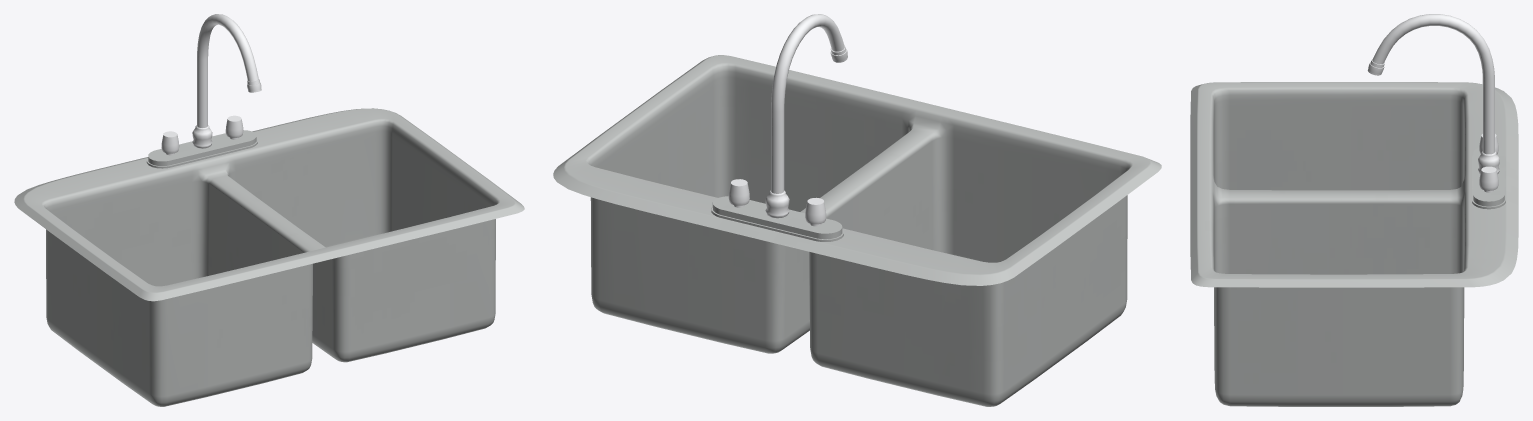
Rendered from sink2.glb.
The picture shows the model from 3 angles, left to right: view 1: azimuth 30°, elevation 25°; view 2: azimuth 150°, elevation 25°; view 3: azimuth 270°, elevation 25°; orthographic projection. The views are drawn at different scales.
Visible parts, largest first — view 1: KitchenSink, KitchenSinkFaucet; view 2: KitchenSink, KitchenSinkFaucet; view 3: KitchenSink, KitchenSinkFaucet, KitchenSinkHandleR.
Part boxes in pixels (x1=…): KitchenSink: x1=14, y1=108, x2=524, y2=406; KitchenSinkFaucet: x1=192, y1=14, x2=261, y2=148; KitchenSink: x1=553, y1=55, x2=1161, y2=406; KitchenSinkFaucet: x1=765, y1=14, x2=847, y2=218; KitchenSink: x1=1190, y1=82, x2=1518, y2=406; KitchenSinkFaucet: x1=1367, y1=14, x2=1499, y2=173; KitchenSinkHandleR: x1=1479, y1=166, x2=1498, y2=192.
Size of the model in its own units: 0.8332 by 0.6311 by 0.5674.
Materials: 2 (1 with a texture image).
